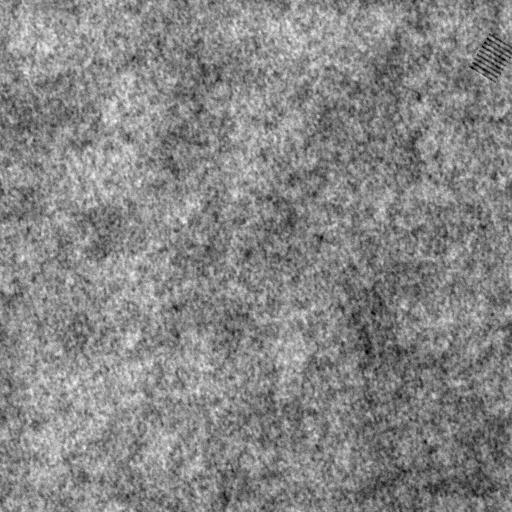DefectTypeB: (471, 30, 505, 80)
